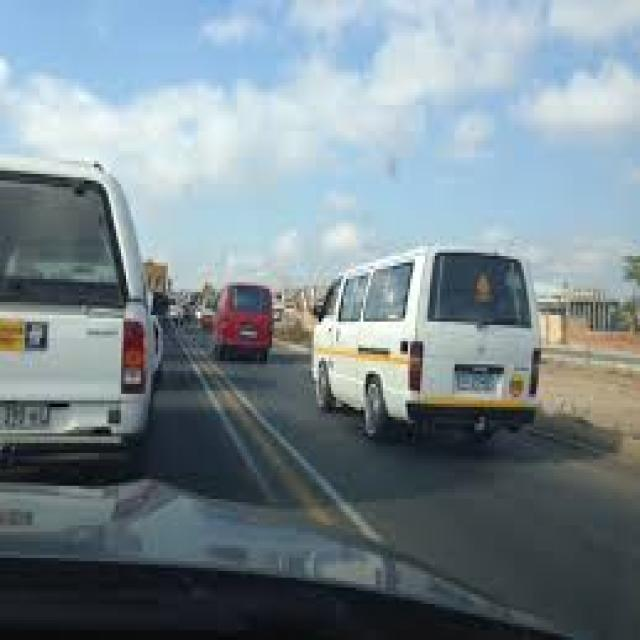MiniBus taxi: (306, 243, 539, 450)
